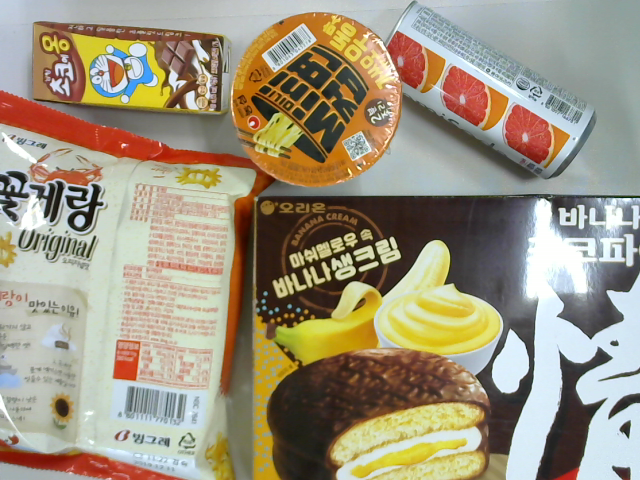Choco_E_Mong: (28, 19, 232, 116)
Choco_Pie_Banana: (250, 192, 640, 480)
Crabrang: (1, 86, 277, 480)
Demisoda_Grapefruit_Can_250ml: (388, 1, 599, 178)
Udongmini: (231, 11, 402, 188)
